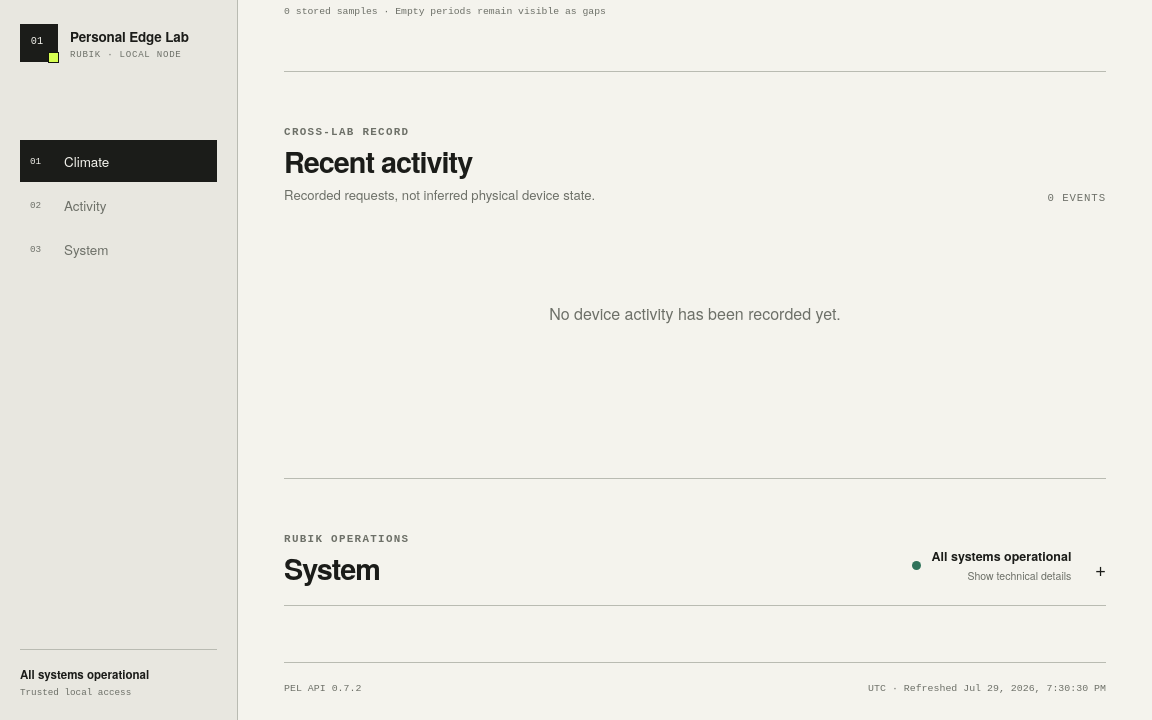
lab dashboard › keeps recovered history inside the secondary system disclosure
The width and height of the screenshot is (1152, 720).
(page scrolled)
Click the heading "System" at (332, 568), box [284,548,380,588]
(page scrolled)
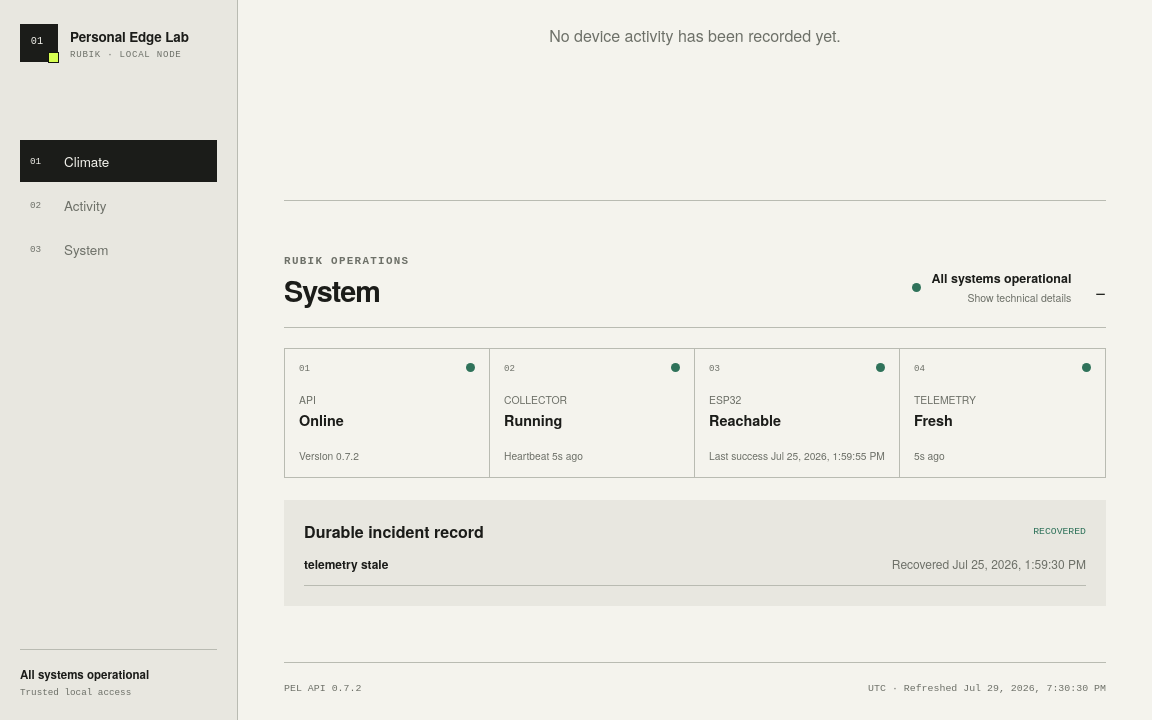
Now the text "Recovered Jul 25, 2026, 1:59:30 PM" is shown, box [892,555,1086,573]
